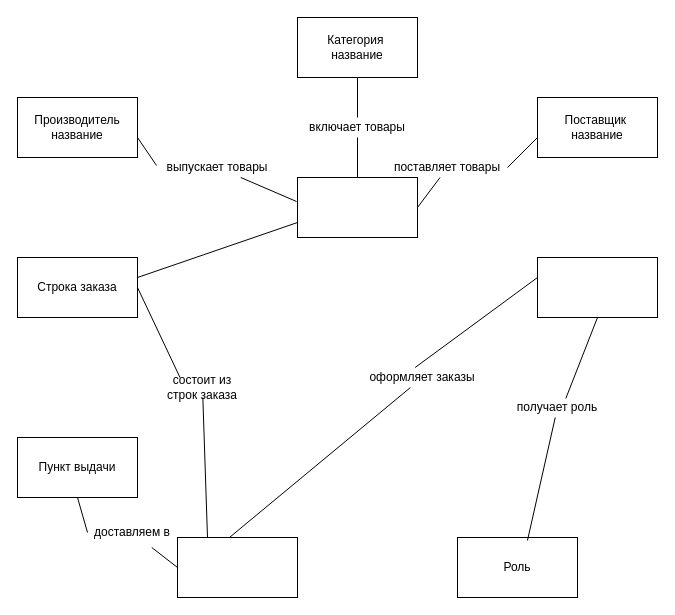
Some shapes in this 675 by 615 pixel diagram are drawn without their labels. Here are the shapes that lost their labels. From the top down, the centre of each, then its label:
At pixel 357 207: "Товар артикул цена описание".
At pixel 597 287: "Пользователь".
At pixel 237 567: "Заказ".
